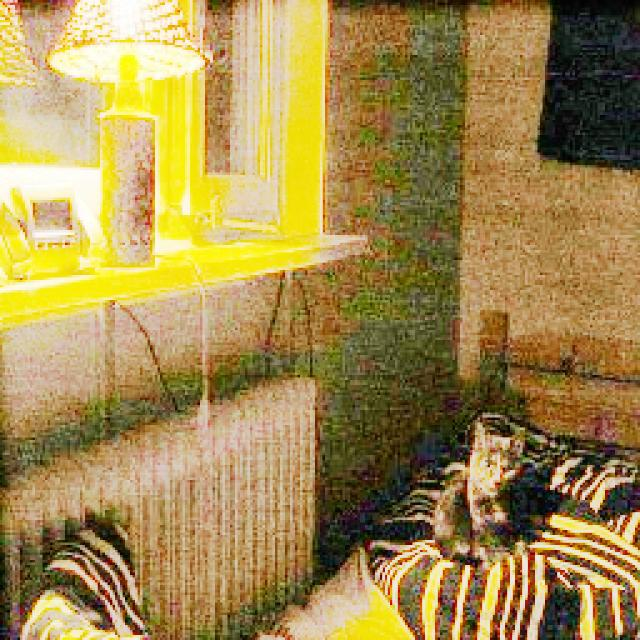cat: (433, 416, 533, 569)
